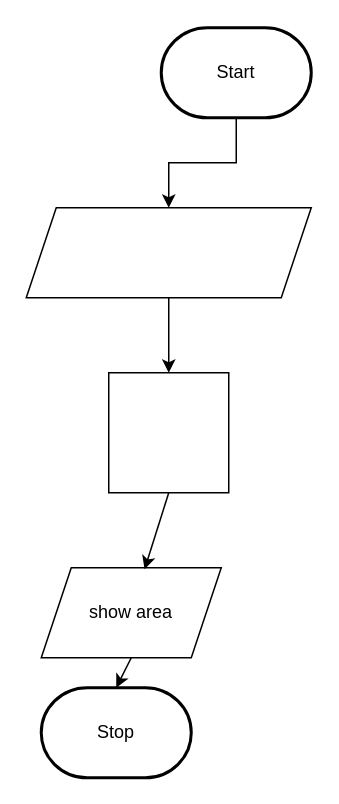
Image size: 339x804. Some labels were removed from this diagram. Here are the shapes that lost their labels. From the top down, the centre of each, then its label:
point (168, 252): enter lValue, wValue, hValue
point (168, 432): area = (lValue * wValue * hValue)/3
